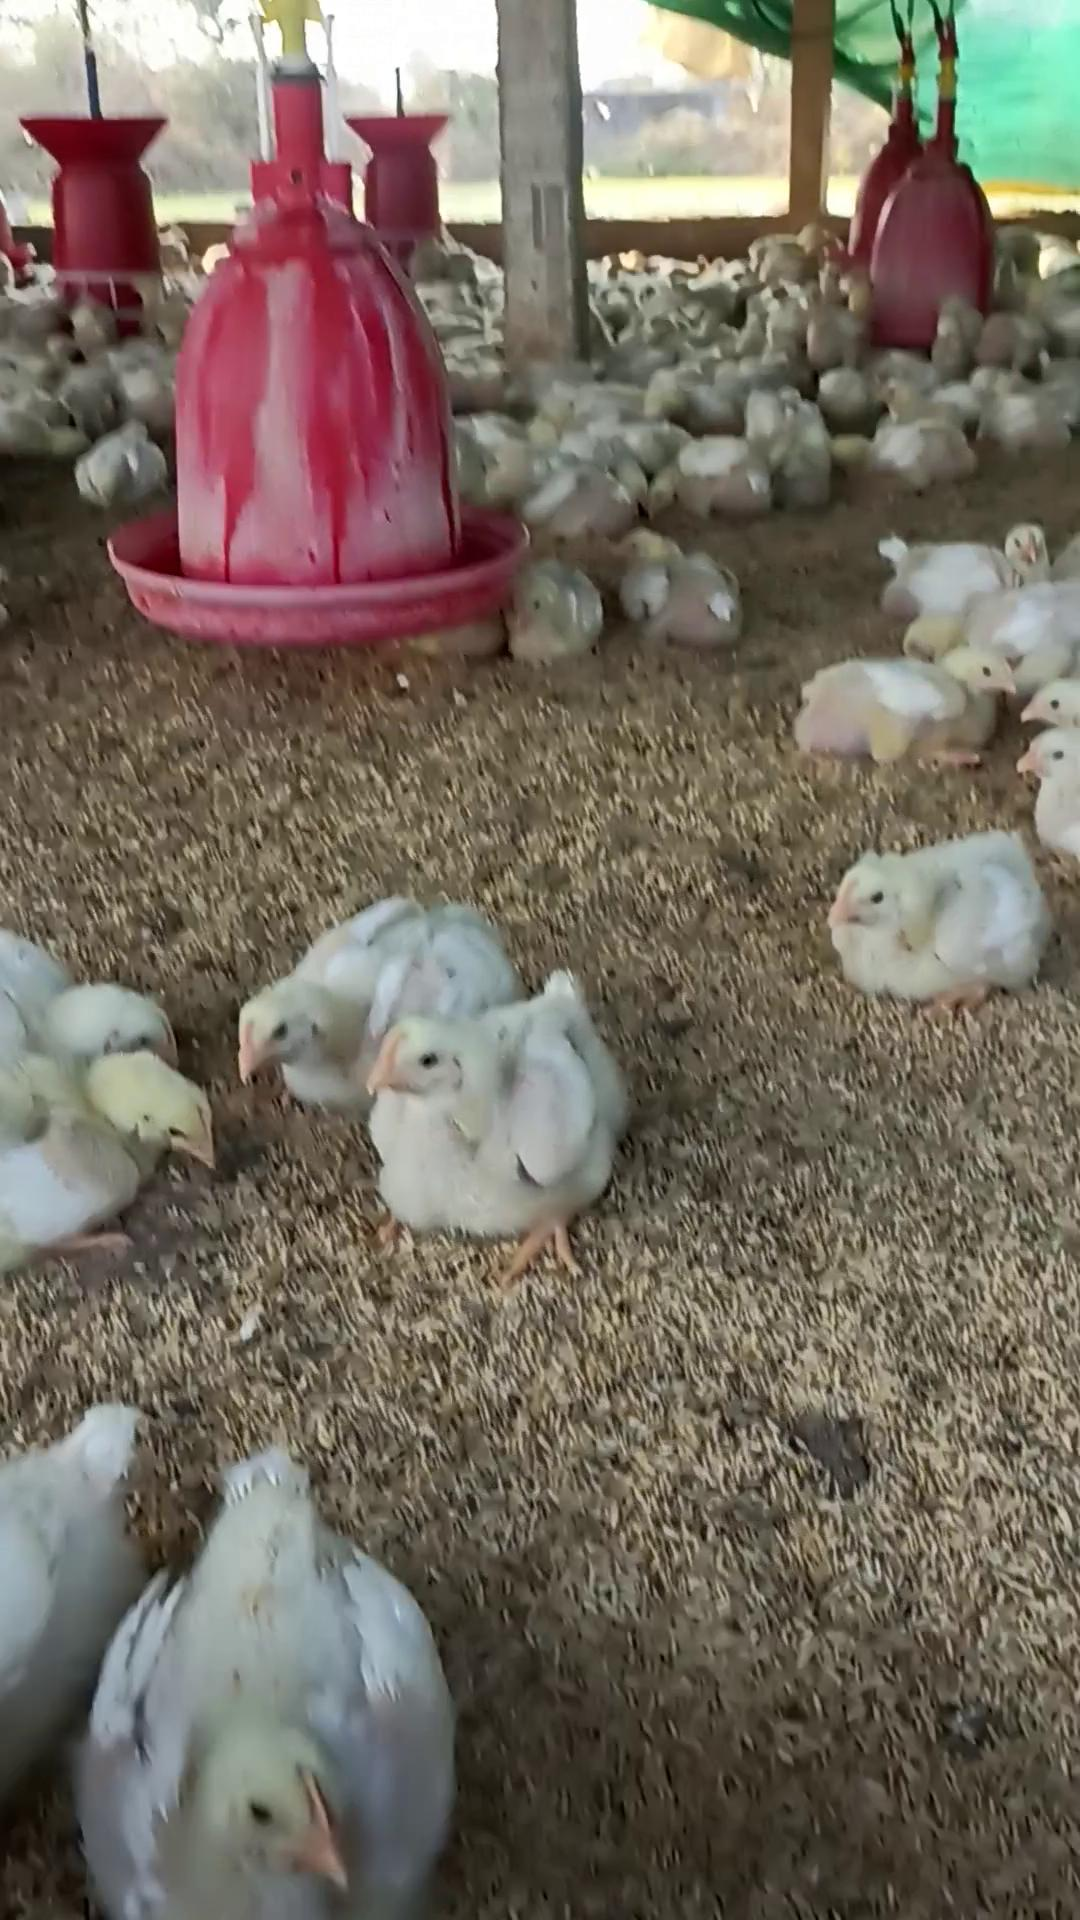Pollos: (115, 1424, 442, 1911), (371, 967, 624, 1242), (831, 831, 1058, 1001), (7, 1035, 237, 1174), (790, 644, 1033, 760), (241, 913, 373, 1092), (887, 516, 1047, 618), (633, 530, 740, 646), (862, 386, 978, 473), (498, 568, 603, 662), (655, 433, 774, 508), (78, 426, 169, 512)
